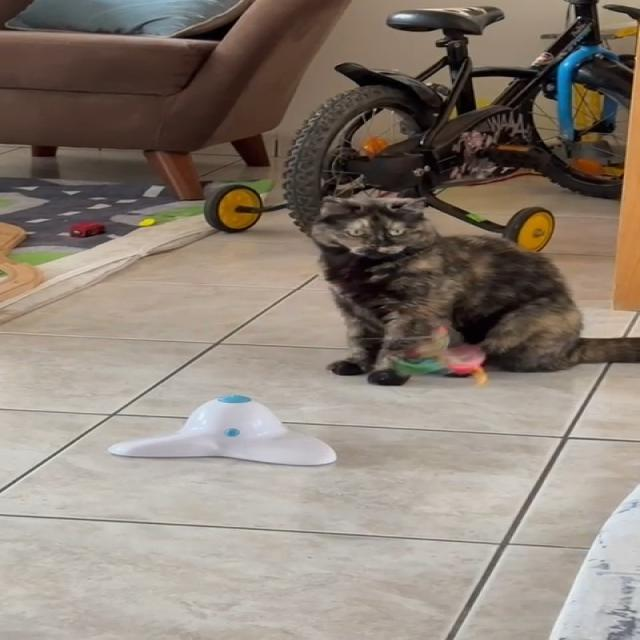authorized: (306, 191, 638, 386)
